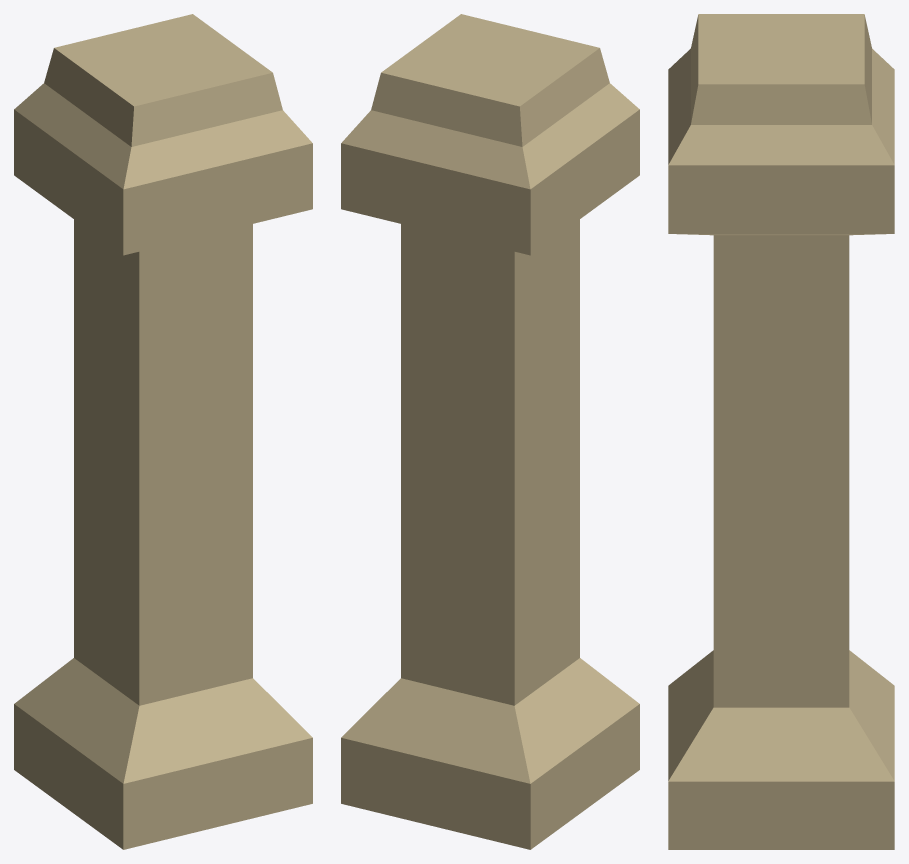
File: rpg-mansion-stone-newel-post-01.glb
3 views of the same model, side by side, from view 1: azimuth 30°, elevation 25°; view 2: azimuth 150°, elevation 25°; view 3: azimuth 270°, elevation 25° (orthographic). The views are drawn at different scales.
Parts seen in each view (by area): view 1: rpg-mansion-stone-newel-post-01; view 2: rpg-mansion-stone-newel-post-01; view 3: rpg-mansion-stone-newel-post-01.
Part boxes in pixels (x1,y1,x2,y2): rpg-mansion-stone-newel-post-01: (14, 14, 312, 849); rpg-mansion-stone-newel-post-01: (341, 14, 639, 849); rpg-mansion-stone-newel-post-01: (668, 14, 894, 849).
Size of the model in its own units: 0.3 by 1.1 by 0.3.
